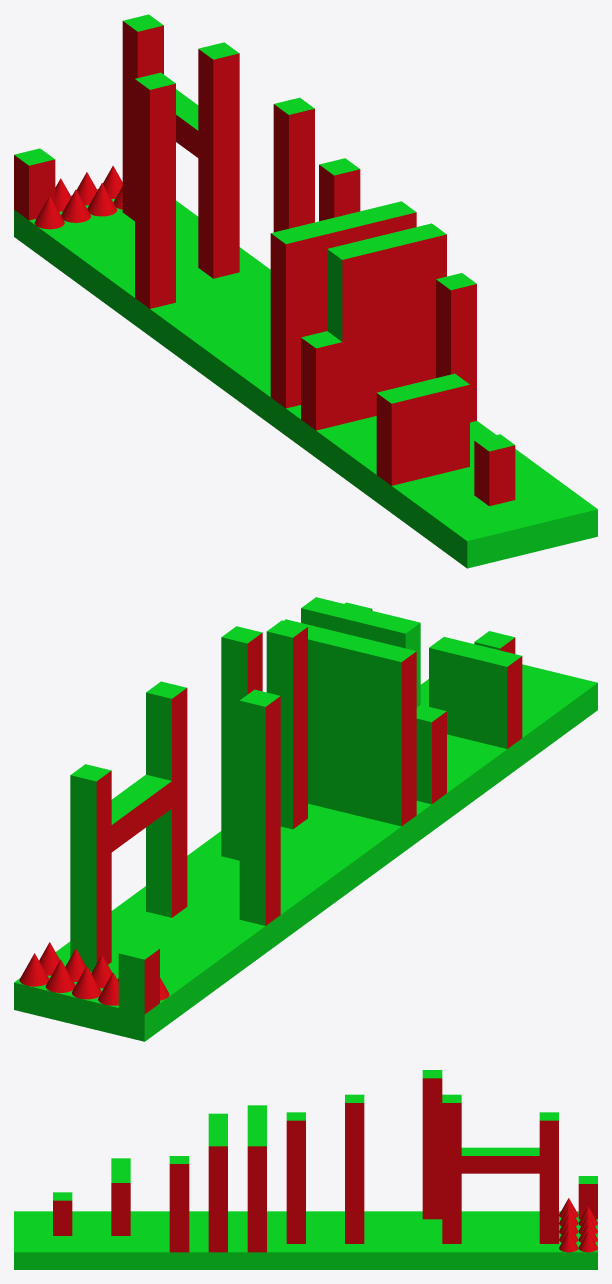
Rendered from newtestingmap.glb.
3 views of the same model, one above another, from view 1: azimuth 30°, elevation 25°; view 2: azimuth 150°, elevation 25°; view 3: azimuth 270°, elevation 25° (orthographic). The views are drawn at different scales.
Visible parts, largest first — view 1: Cube.001, Cube; view 2: Cube, Cube.001, Cone.003, Cone, Cone.002; view 3: Cube, Cube.001.
Part boxes in pixels (x1,y1,x2,y2): Cube.001: [14, 21, 515, 506]; Cube: [14, 14, 597, 568]; Cube: [14, 597, 597, 1041]; Cube.001: [96, 609, 522, 1013]; Cone.003: [19, 953, 49, 986]; Cone: [72, 966, 101, 999]; Cone.002: [45, 959, 75, 992]; Cube: [14, 1070, 597, 1269]; Cube.001: [53, 1078, 597, 1252].
Bounding box in the file's own units: 5 × 9 × 30.
